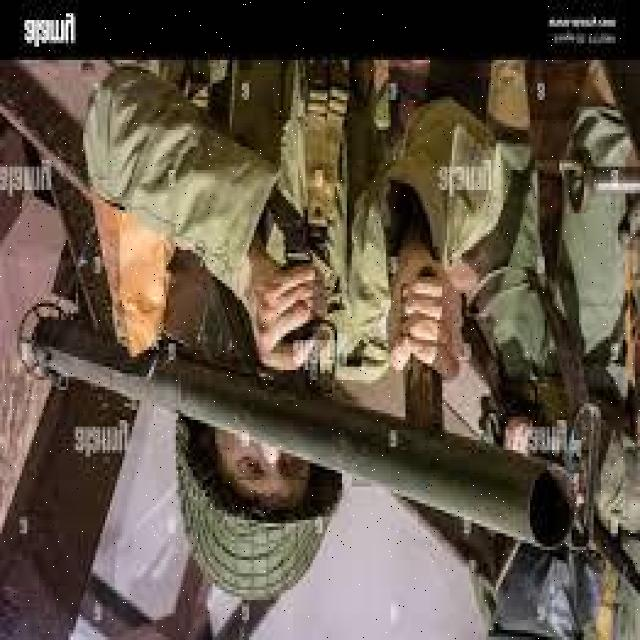bazooka: (12, 287, 586, 561)
